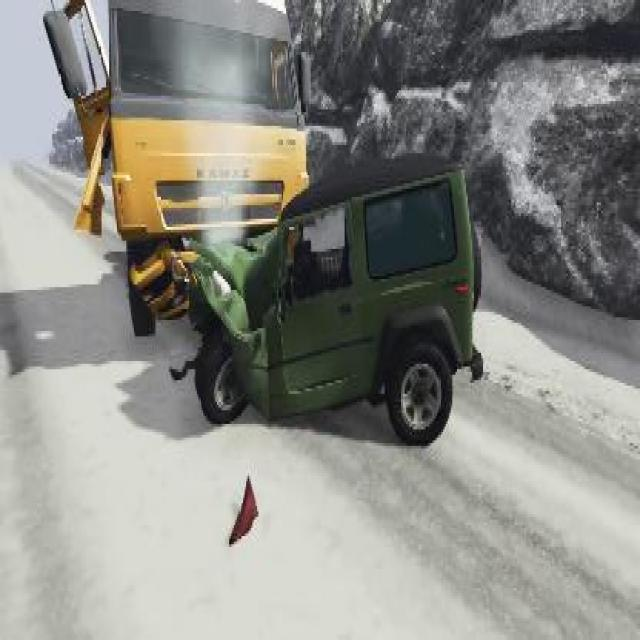accident: (34, 0, 486, 457)
